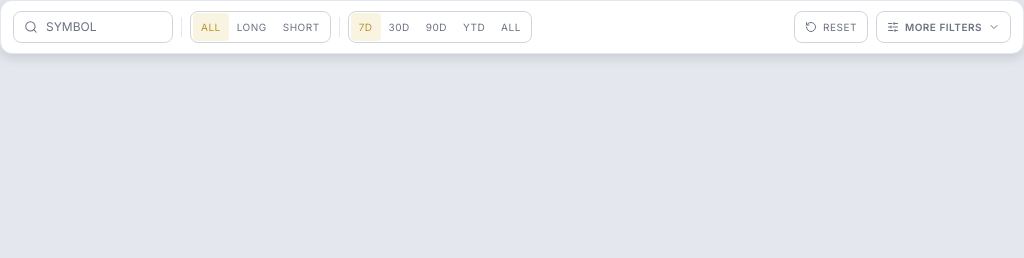
it: AnalyticsFilterBar — multi-select behavior across the MultiSelectMenu extraction › Clear empties the selection and the badge disappears
Click the button "More filters". click: [943, 27]
box: [876, 11, 1011, 43]
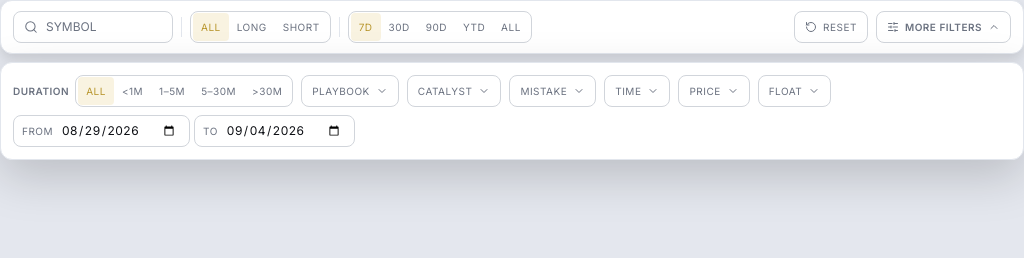
Click the button "Mistake". click: [553, 91]
box: [509, 75, 596, 107]
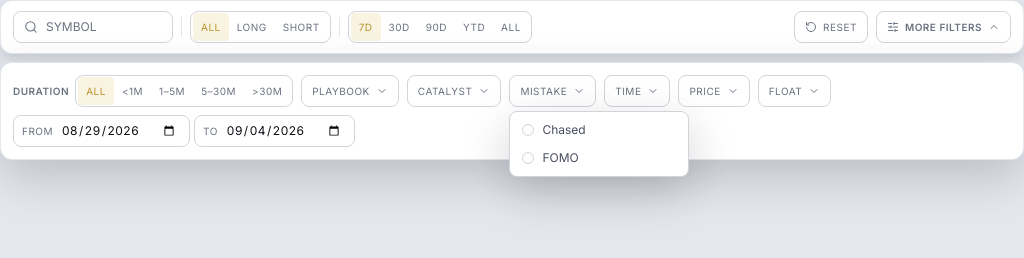
Click the button "FOMO". click: [599, 158]
box: [514, 144, 684, 172]
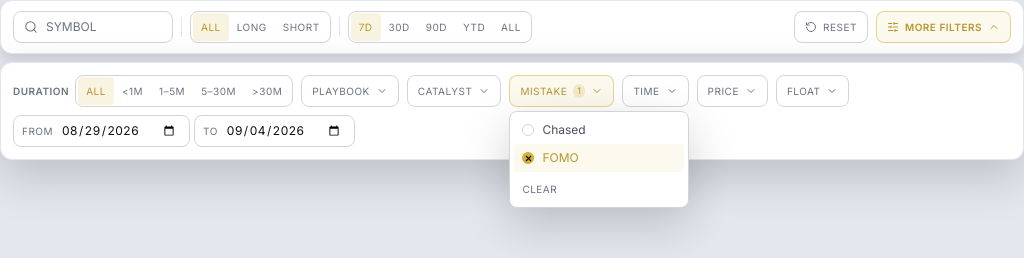
Click the button "Chased". click: [599, 130]
box: [514, 116, 684, 144]
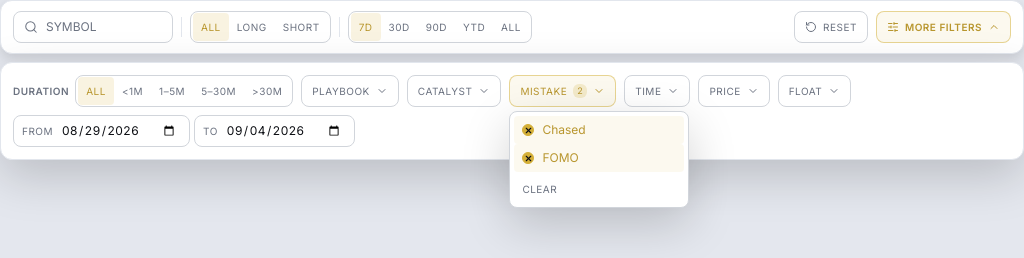
Click the button "Clear". click: [599, 190]
box: [514, 176, 684, 203]
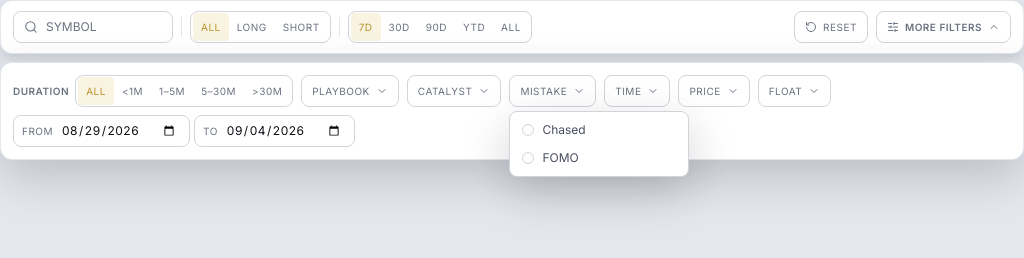
Expected: the button "Clear" is gone
